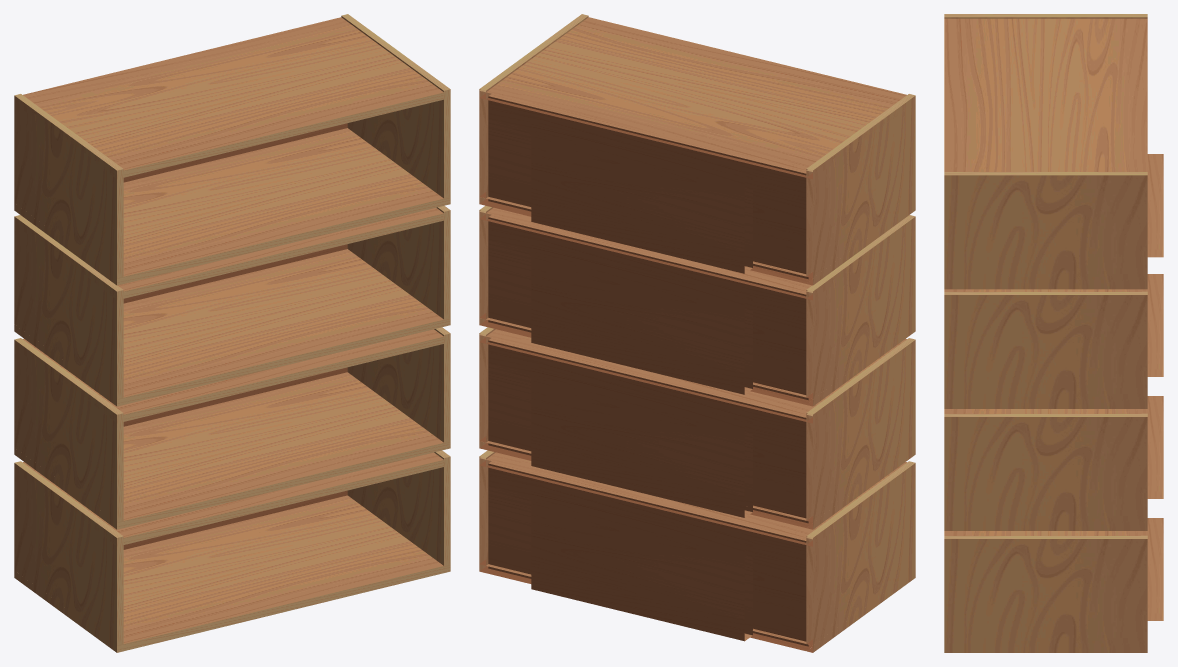
The model's file is layout_wide_4s_open_simple.fbx.
3 renders of one model, left to right at view 1: azimuth 30°, elevation 25°; view 2: azimuth 150°, elevation 25°; view 3: azimuth 270°, elevation 25°, orthographic.
Parts seen in each view (by area): view 1: Shelf-TM-00 3, Shelf-BM-00 1, Shelf-BM-00 2, Shelf-BM-00 3, Shelf-BM-00, Shelf-CL-01, Shelf-CL-01 1, Shelf-CL-01 3, Shelf-CL-01 2, Shelf-CR-01 3, Shelf-CR-01, Shelf-CR-01 1 (+12 smaller); view 2: Shelf-TM-00 3, Shelf-Back-00 (1) 1, Shelf-Back-00 (1), Shelf-Back-00 (1) 2, Shelf-Back-00 (1) 3, Shelf-CL-01, Shelf-CL-01 1, Shelf-CL-01 3, Shelf-Back-00, Shelf-Back-00 1, Shelf-CL-01 2, Shelf-Back-00 3 (+16 smaller); view 3: Shelf-TM-00 3, Shelf-CR-01, Shelf-CR-01 1, Shelf-CR-01 2, Shelf-CR-01 3, Shelf-Back-00 (1) 3, Shelf-Back-00 (1), Shelf-Back-00 (1) 1, Shelf-Back-00 (1) 2, Shelf-CR-00, Shelf-CR-00 1, Shelf-CR-00 2 (+5 smaller).
Boxes of the visible parts, x1,y1,x2,y2 form: Shelf-TM-00 3: (23,17,443,177); Shelf-BM-00 1: (123,372,443,527); Shelf-BM-00 2: (123,249,443,404); Shelf-BM-00 3: (123,128,443,283); Shelf-BM-00: (123,495,443,650); Shelf-CL-01: (14,461,123,645); Shelf-CL-01 1: (14,338,123,522); Shelf-CL-01 3: (14,94,123,278); Shelf-CL-01 2: (14,215,123,399); Shelf-CR-01 3: (341,14,450,198); Shelf-CR-01: (347,450,450,565); Shelf-CR-01 1: (347,327,450,442); Shelf-TM-00 3: (486,17,906,177); Shelf-Back-00 (1) 1: (531,360,752,517); Shelf-Back-00 (1): (531,483,752,641); Shelf-Back-00 (1) 2: (531,237,752,394); Shelf-Back-00 (1) 3: (531,116,752,273); Shelf-CL-01: (806,461,915,645); Shelf-CL-01 1: (806,338,915,522); Shelf-CL-01 3: (806,94,915,277); Shelf-Back-00: (488,461,808,646); Shelf-Back-00 1: (488,338,808,523); Shelf-CL-01 2: (806,215,915,398); Shelf-Back-00 3: (488,94,808,279); Shelf-TM-00 3: (944,18,1147,171); Shelf-CR-01: (944,535,1147,645); Shelf-CR-01 1: (944,413,1147,523); Shelf-CR-01 2: (944,291,1147,401); Shelf-CR-01 3: (944,172,1147,281); Shelf-Back-00 (1) 3: (1147,154,1163,257); Shelf-Back-00 (1): (1147,518,1163,620); Shelf-Back-00 (1) 1: (1147,396,1163,498); Shelf-Back-00 (1) 2: (1147,274,1163,376); Shelf-CR-00: (944,645,1147,652); Shelf-CR-00 1: (944,523,1147,530); Shelf-CR-00 2: (944,401,1147,408).
Size of the model in its own units: 150 by 207 by 86.3.
